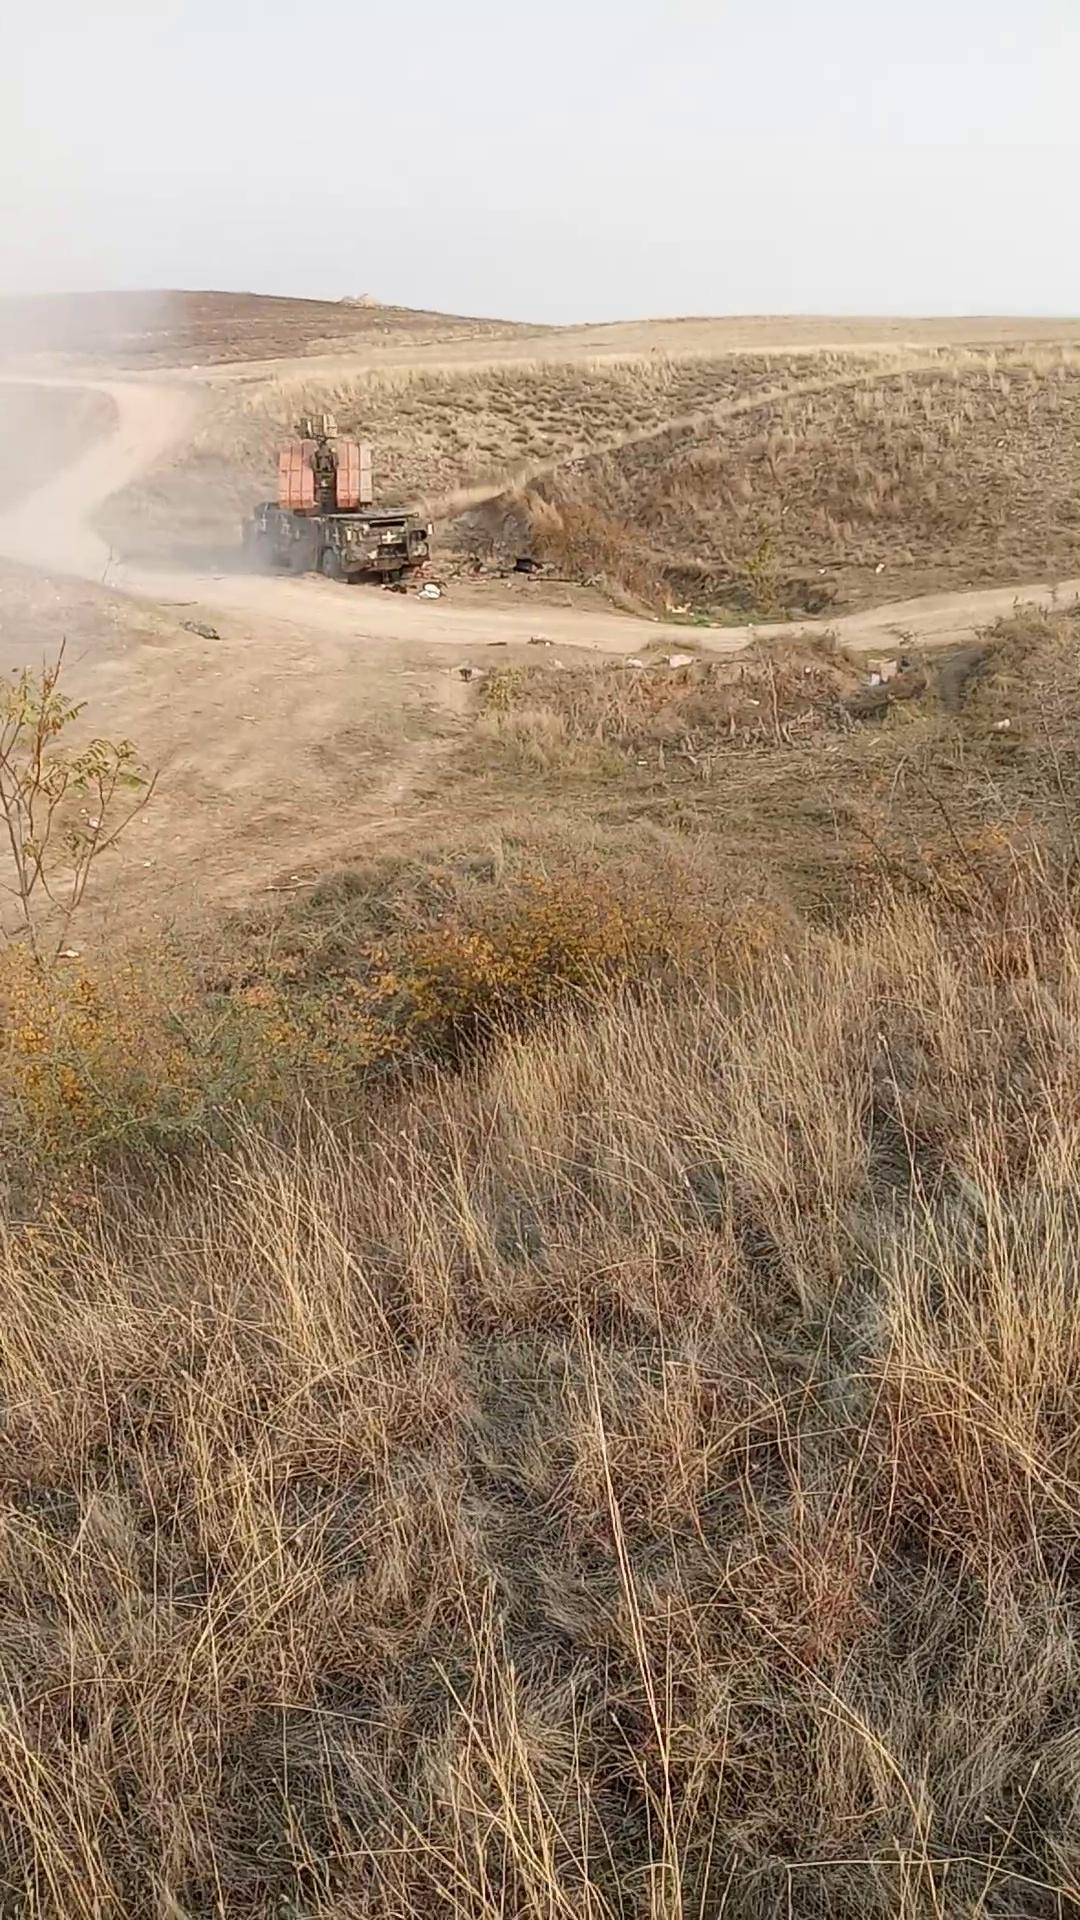MIL_SAM_TEL: (231, 411, 442, 597)
